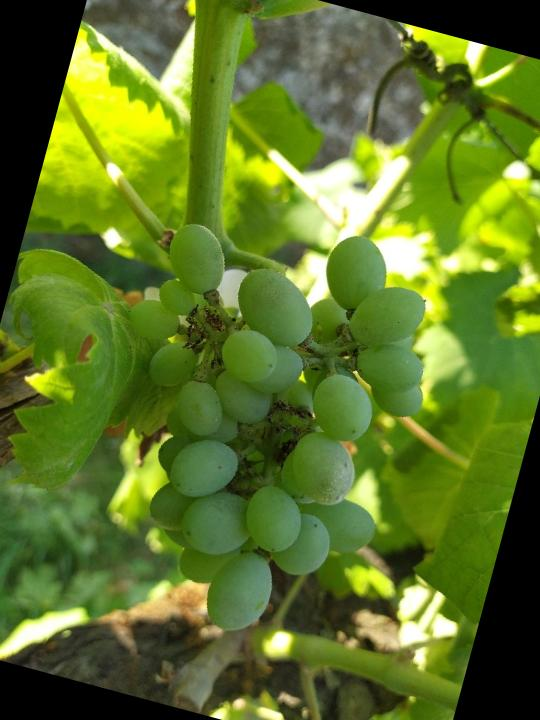grape: (51, 175, 467, 670)
